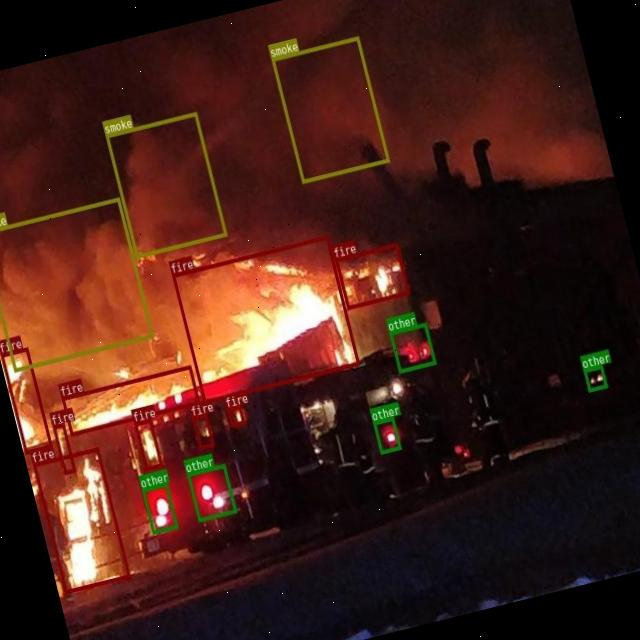fire: (172, 235, 360, 402), (32, 447, 129, 593), (60, 364, 200, 435), (0, 346, 51, 453), (334, 242, 409, 310), (132, 417, 162, 470), (51, 422, 76, 473), (191, 413, 213, 448), (226, 404, 244, 426)
smoke: (0, 196, 153, 372), (105, 112, 226, 258), (271, 35, 390, 183)
